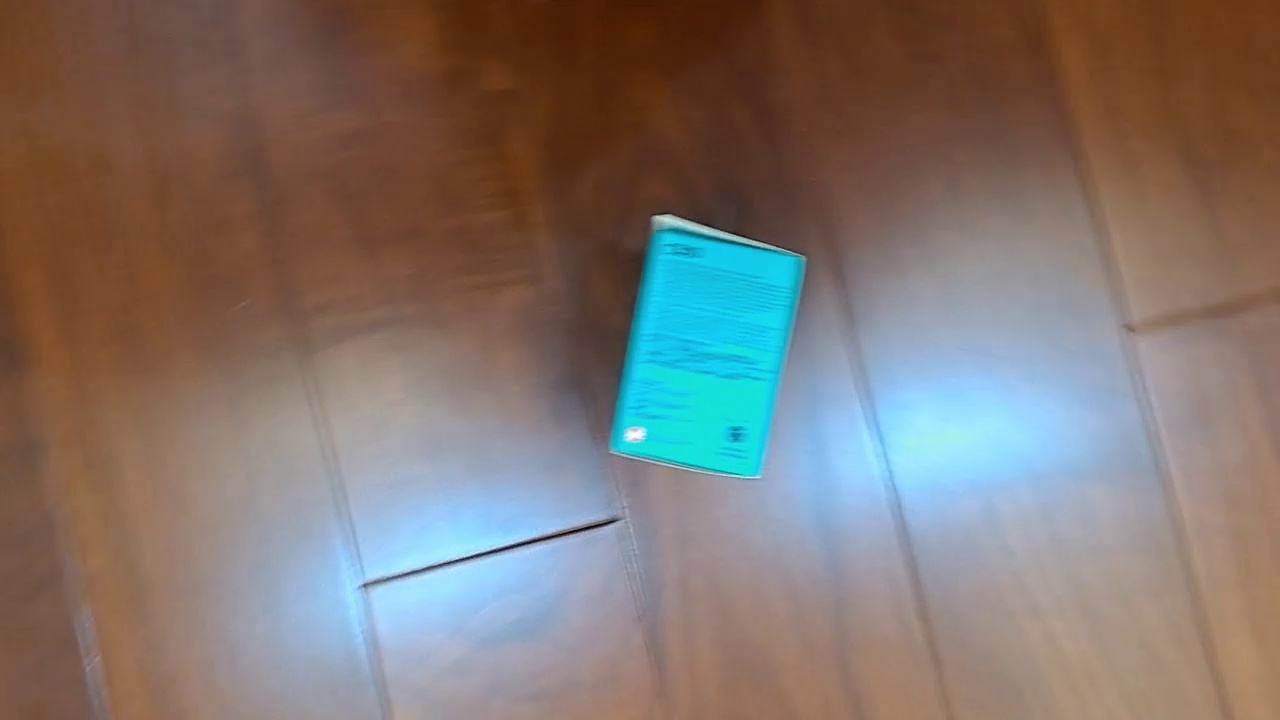webcam: (605, 212, 809, 481)
